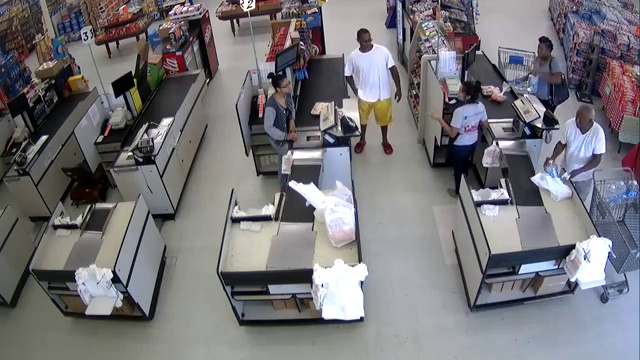face: (277, 81, 295, 97), (575, 112, 590, 129), (358, 34, 373, 49), (537, 42, 549, 57)
